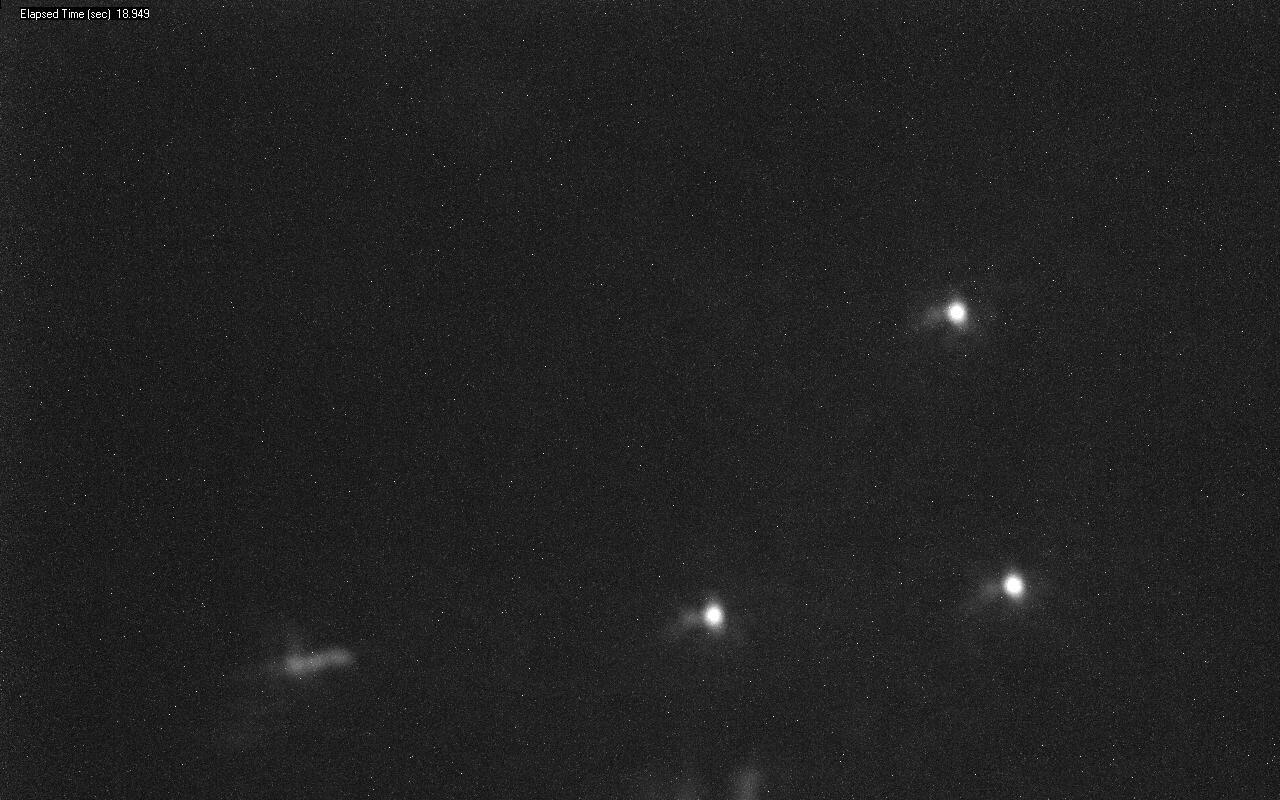Bead: (1002, 572, 1024, 597), (703, 603, 724, 629), (948, 301, 966, 327)
